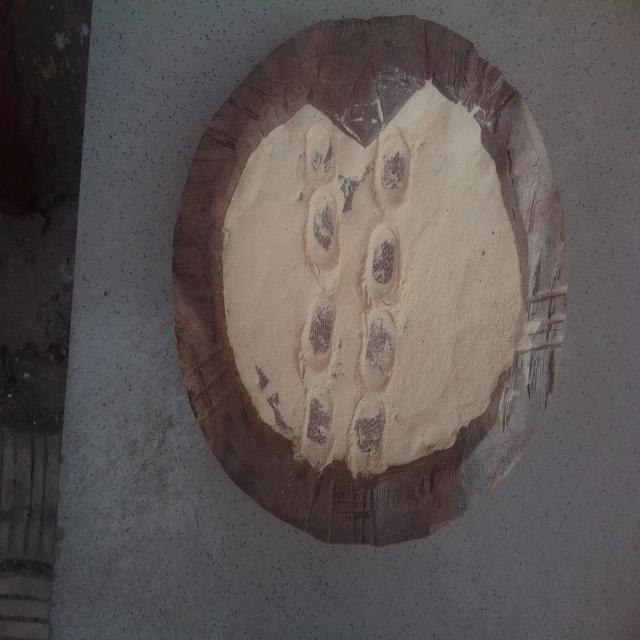single: (361, 218, 407, 310), (303, 185, 346, 283), (359, 302, 402, 396), (302, 292, 340, 383), (376, 130, 414, 218), (300, 380, 338, 464), (349, 393, 387, 469), (304, 120, 339, 188)
